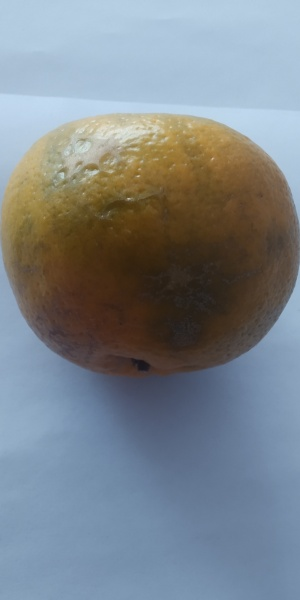BAD: (3, 107, 300, 377)
